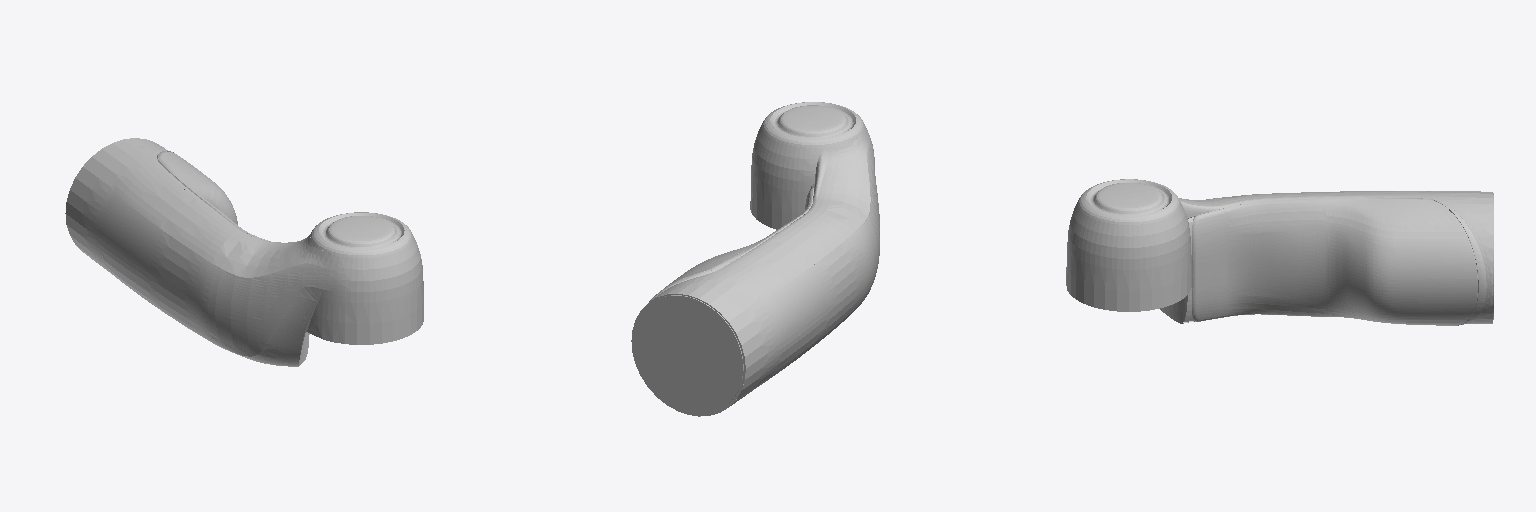
The picture shows the model from 3 angles: view 1: azimuth 30°, elevation 25°; view 2: azimuth 150°, elevation 25°; view 3: azimuth 270°, elevation 25°; orthographic projection.
Parts seen in each view (by area): view 1: link_3.design_diana_v2.link_3; view 2: link_3.design_diana_v2.link_3; view 3: link_3.design_diana_v2.link_3.
Part boxes in pixels (x1,y1,x2,y2): link_3.design_diana_v2.link_3: (65, 138, 423, 366); link_3.design_diana_v2.link_3: (631, 102, 879, 416); link_3.design_diana_v2.link_3: (1066, 179, 1493, 325).
Bounding box in the file's own units: 0.1926 × 0.1661 × 0.4212.